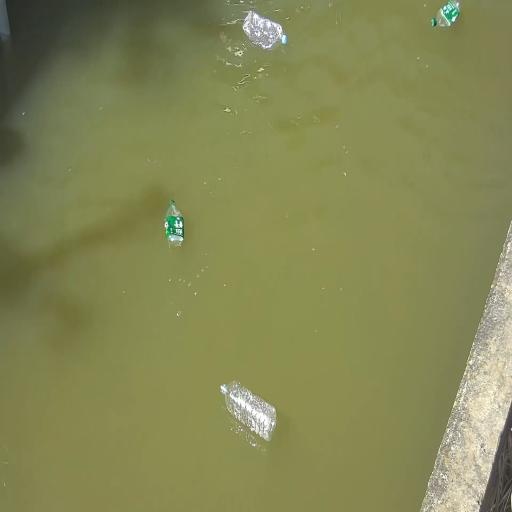plastic: (220, 376, 277, 443), (242, 9, 287, 50), (164, 198, 186, 252), (430, 0, 461, 30)
